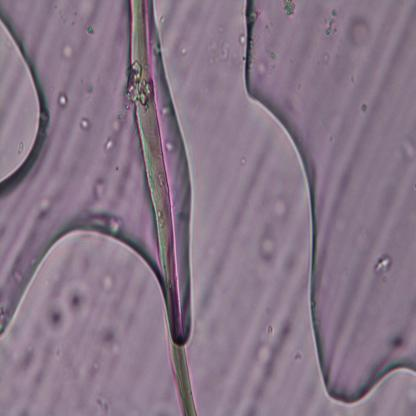Air bubble: (240, 0, 416, 409), (0, 218, 156, 353), (0, 21, 49, 199)
Background material: (245, 313, 294, 413), (198, 260, 224, 321), (81, 207, 124, 236), (255, 222, 282, 265), (204, 34, 236, 68), (33, 342, 54, 388), (44, 296, 70, 331), (372, 250, 399, 282), (65, 281, 87, 314), (349, 19, 371, 44), (96, 323, 118, 347), (395, 137, 416, 162), (89, 178, 109, 202), (21, 348, 38, 375), (98, 272, 117, 294), (324, 10, 340, 36), (274, 198, 290, 221), (100, 137, 119, 155), (0, 303, 13, 328), (96, 394, 112, 414), (34, 202, 50, 221), (390, 336, 407, 353), (59, 43, 75, 61), (10, 270, 26, 288), (281, 0, 297, 15), (111, 117, 123, 136), (160, 138, 176, 152), (80, 115, 91, 132), (358, 100, 367, 118), (57, 94, 68, 108), (84, 24, 95, 38), (270, 47, 276, 72), (236, 33, 248, 45), (294, 350, 305, 362), (179, 43, 188, 55), (165, 107, 172, 119), (240, 160, 246, 165)
Microfibre: (127, 0, 198, 414)
